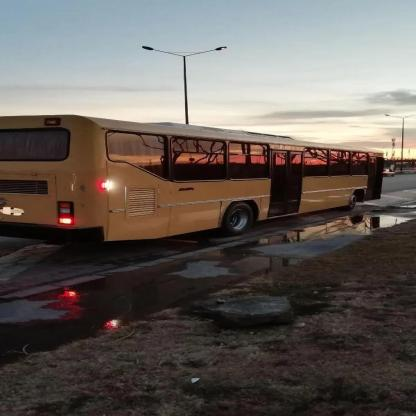Bus: (0, 117, 406, 253)
